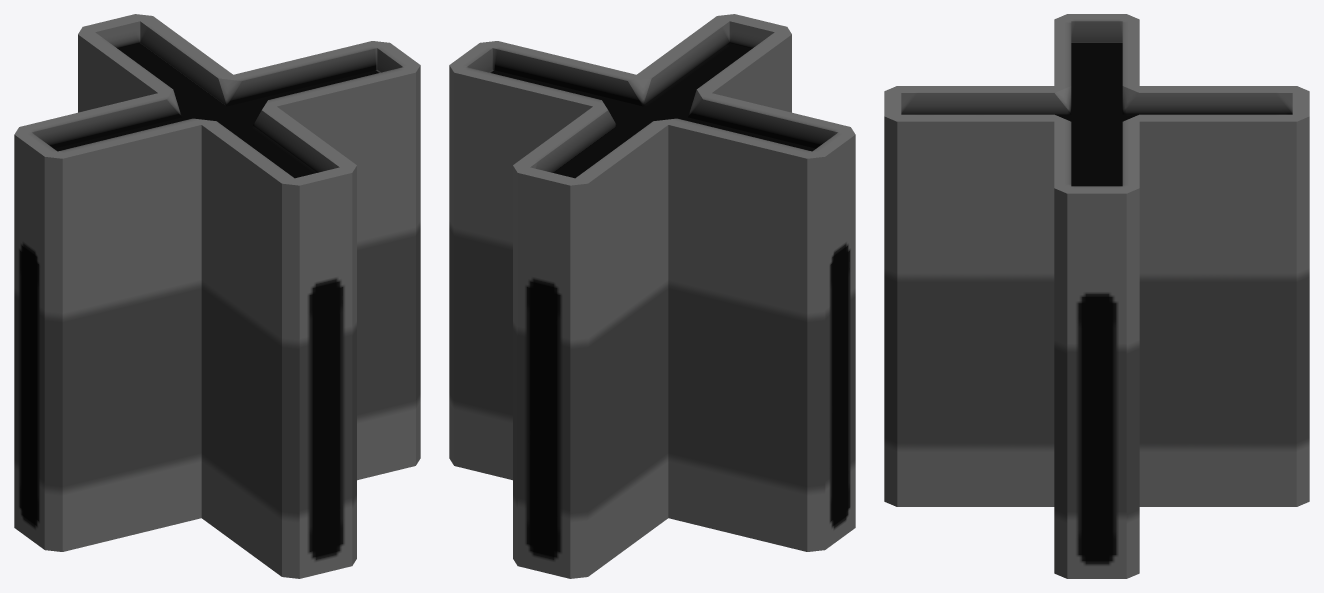
Rendered from wall_double_two_cross1.fbx.
3 renders of one model, left to right at view 1: azimuth 30°, elevation 25°; view 2: azimuth 150°, elevation 25°; view 3: azimuth 270°, elevation 25°, orthographic. The views are drawn at different scales.
Parts seen in each view (by area): view 1: wall_double_two_cross1; view 2: wall_double_two_cross1; view 3: wall_double_two_cross1.
Part boxes in pixels (bbox=[...]): wall_double_two_cross1: bbox=[14, 14, 420, 578]; wall_double_two_cross1: bbox=[449, 14, 855, 578]; wall_double_two_cross1: bbox=[884, 14, 1309, 578].
Size of the model in its own units: 1 by 1 by 1.
1 material, 1 textured.
